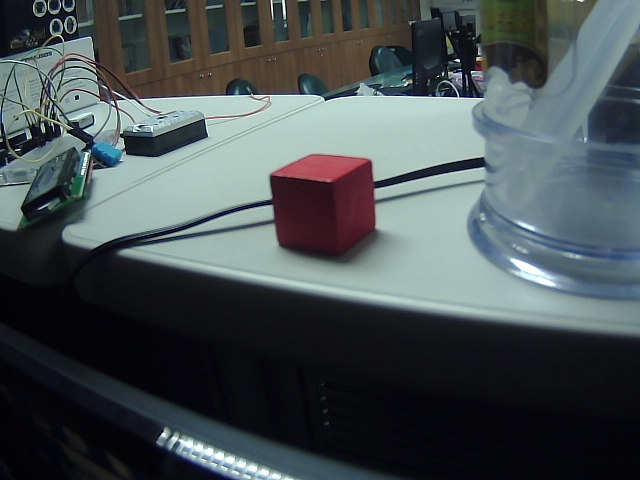redbox: (266, 148, 386, 259)
